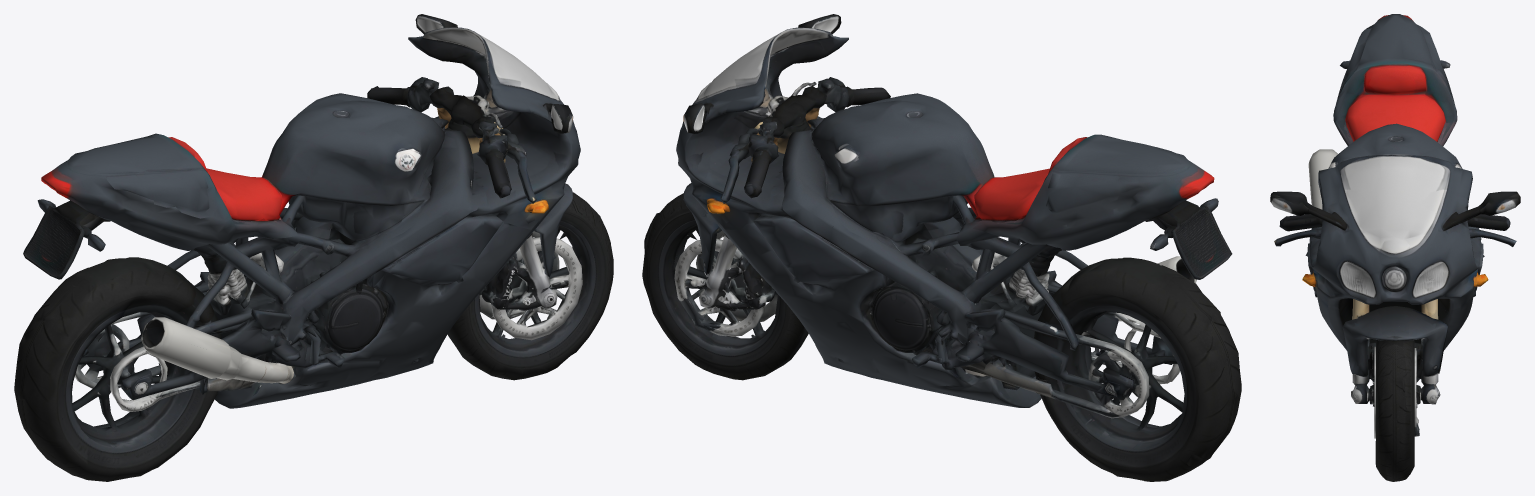
The model's file is sport_bike_3d_model.fbx.
The picture shows the model from 3 angles, left to right: view 1: azimuth 30°, elevation 25°; view 2: azimuth 150°, elevation 25°; view 3: azimuth 270°, elevation 25°; orthographic projection. The views are drawn at different scales.
Parts seen in each view (by area): view 1: tripo_part_1, tripo_part_4, tripo_part_0, tripo_part_3, tripo_part_2, tripo_part_7, tripo_part_5, tripo_part_8, tripo_part_9, tripo_part_12, tripo_part_19, tripo_part_24 (+8 smaller); view 2: tripo_part_1, tripo_part_4, tripo_part_0, tripo_part_3, tripo_part_7, tripo_part_2, tripo_part_5, tripo_part_6, tripo_part_8, tripo_part_11, tripo_part_12, tripo_part_21 (+9 smaller); view 3: tripo_part_0, tripo_part_2, tripo_part_7, tripo_part_14, tripo_part_16, tripo_part_4, tripo_part_3, tripo_part_6, tripo_part_8, tripo_part_24.
Part boxes in pixels (bbox=[...]): tripo_part_1: bbox=[14, 257, 221, 481]; tripo_part_4: bbox=[206, 93, 444, 303]; tripo_part_0: bbox=[367, 14, 580, 229]; tripo_part_3: bbox=[214, 212, 538, 408]; tripo_part_2: bbox=[447, 192, 613, 380]; tripo_part_7: bbox=[41, 133, 298, 250]; tripo_part_5: bbox=[249, 117, 480, 368]; tripo_part_8: bbox=[129, 272, 295, 389]; tripo_part_9: bbox=[110, 261, 274, 411]; tripo_part_12: bbox=[23, 199, 110, 279]; tripo_part_19: bbox=[312, 283, 388, 354]; tripo_part_24: bbox=[106, 167, 217, 218]; tripo_part_1: bbox=[1034, 257, 1241, 481]; tripo_part_4: bbox=[812, 93, 1025, 278]; tripo_part_0: bbox=[676, 14, 890, 230]; tripo_part_3: bbox=[714, 213, 1041, 407]; tripo_part_7: bbox=[972, 134, 1214, 250]; tripo_part_2: bbox=[642, 193, 808, 380]; tripo_part_5: bbox=[782, 118, 997, 370]; tripo_part_6: bbox=[674, 233, 774, 336]; tripo_part_8: bbox=[955, 256, 1196, 393]; tripo_part_11: bbox=[960, 262, 1149, 418]; tripo_part_12: bbox=[1145, 198, 1232, 279]; tripo_part_21: bbox=[871, 286, 929, 350]; tripo_part_0: bbox=[1270, 154, 1520, 343]; tripo_part_2: bbox=[1351, 299, 1414, 481]; tripo_part_7: bbox=[1333, 14, 1457, 146]; tripo_part_14: bbox=[1345, 66, 1445, 141]; tripo_part_16: bbox=[1342, 306, 1447, 376]; tripo_part_4: bbox=[1328, 123, 1462, 168]; tripo_part_3: bbox=[1305, 243, 1484, 382]; tripo_part_6: bbox=[1414, 299, 1440, 436]; tripo_part_8: bbox=[1308, 149, 1337, 209]; tripo_part_24: bbox=[1337, 28, 1371, 99].
Bounding box in the file's own units: 1 × 0.5741 × 0.4351.
